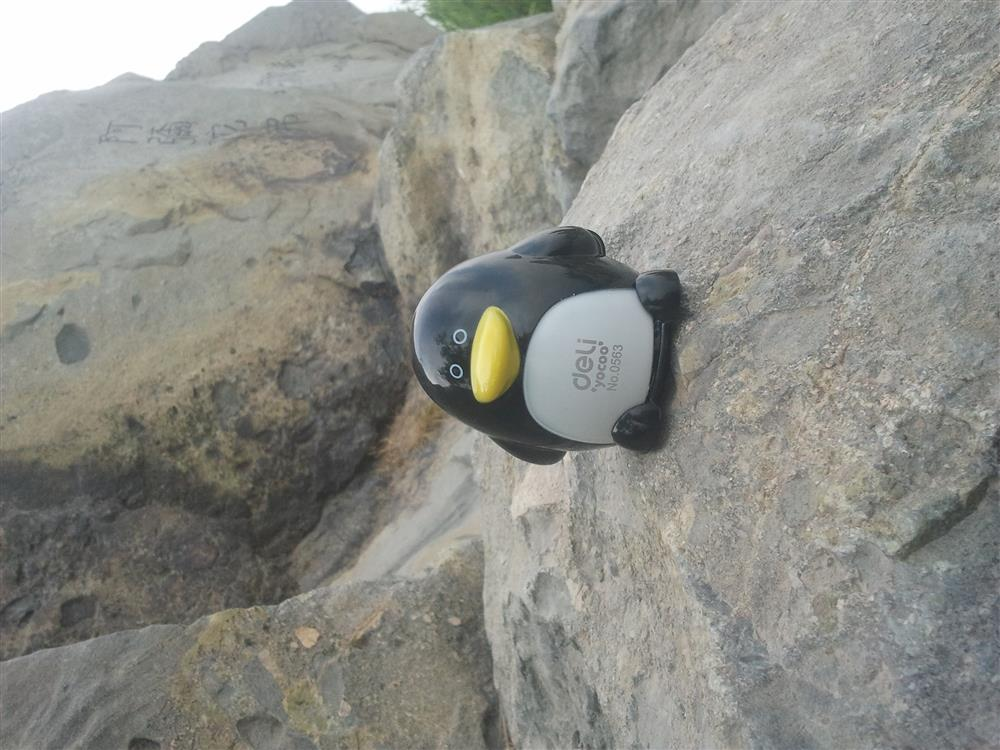deli_penguin: (348, 185, 705, 472)
